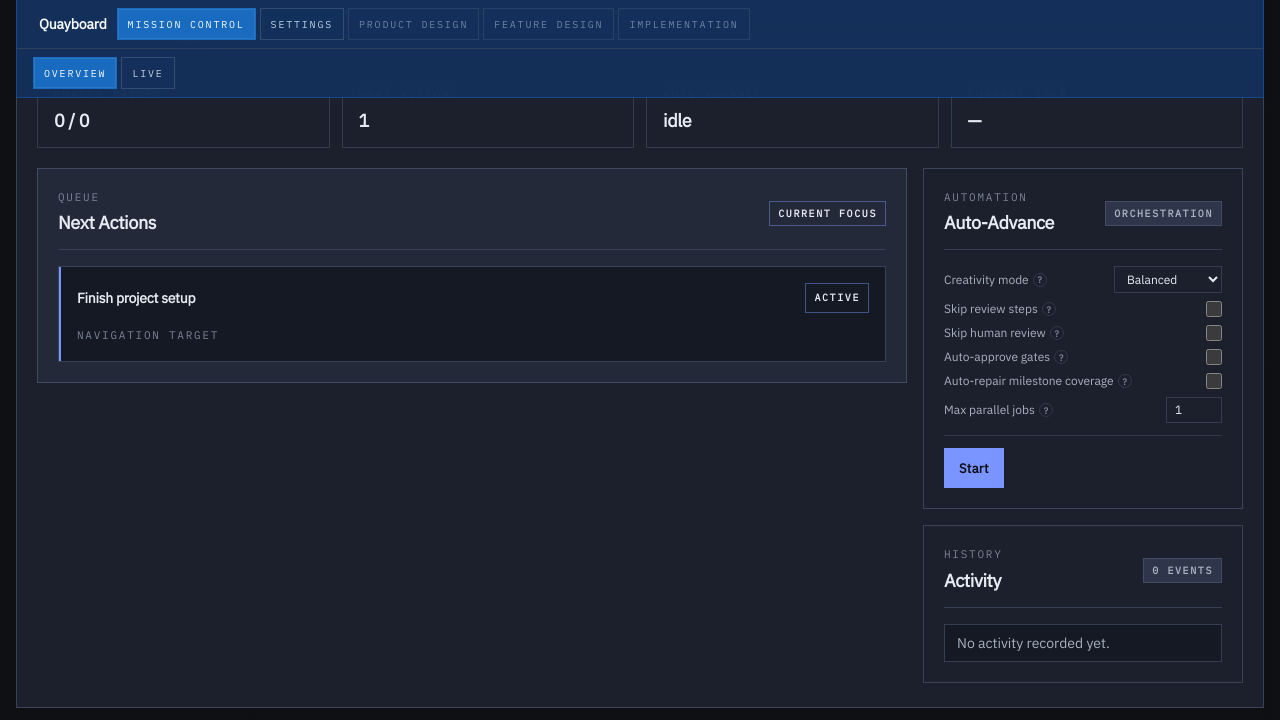
Test: auto-advance controls › renders the backend error message when start fails
(page scrolled)
Click the button "Start" at (974, 468), box [944, 448, 1004, 488]
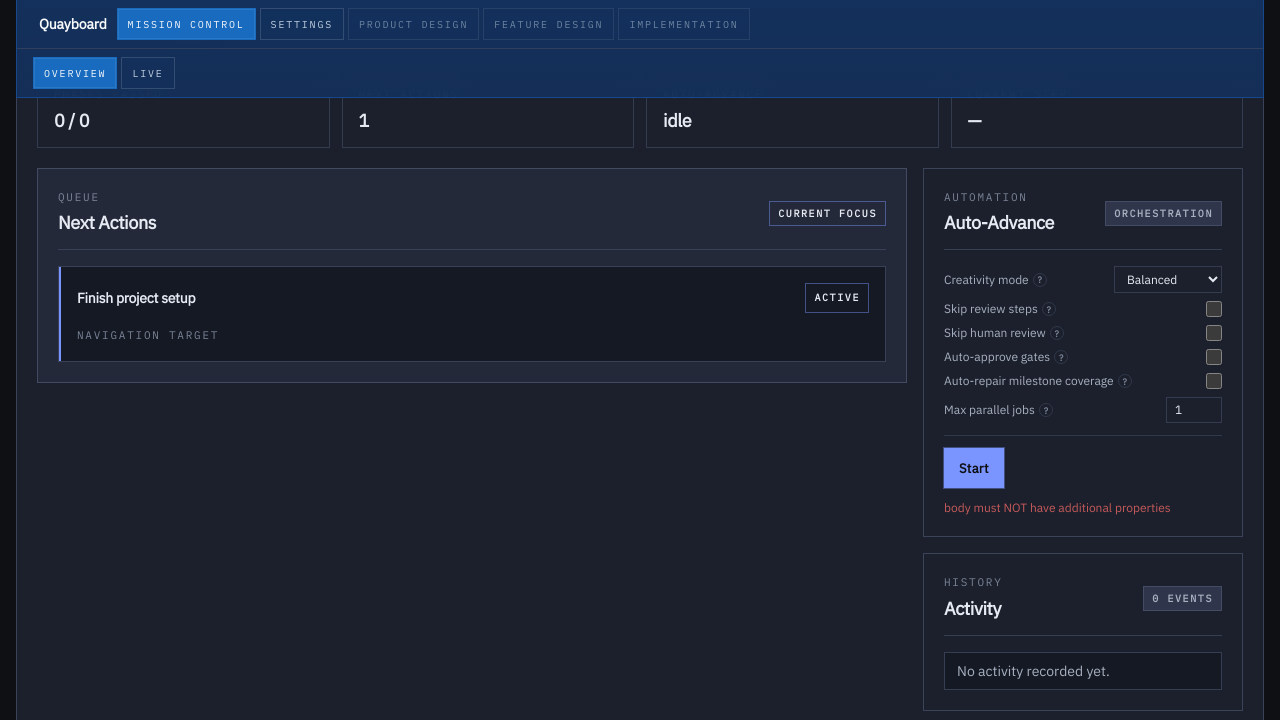
Expected: the text "body must NOT have additional properties" is shown, [944, 500, 1171, 515]
